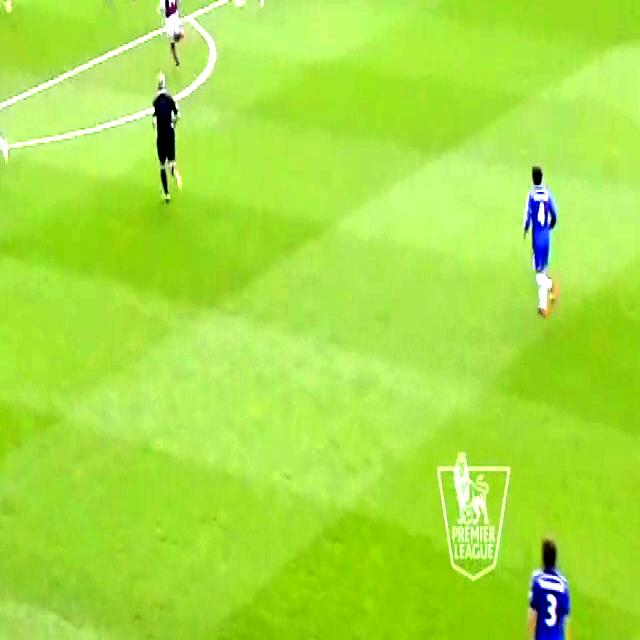referee: (149, 61, 188, 222)
soccer-player: (518, 152, 564, 324), (518, 523, 580, 639), (153, 0, 188, 73), (0, 38, 13, 174), (234, 0, 273, 21), (96, 0, 137, 12), (0, 0, 21, 21)
